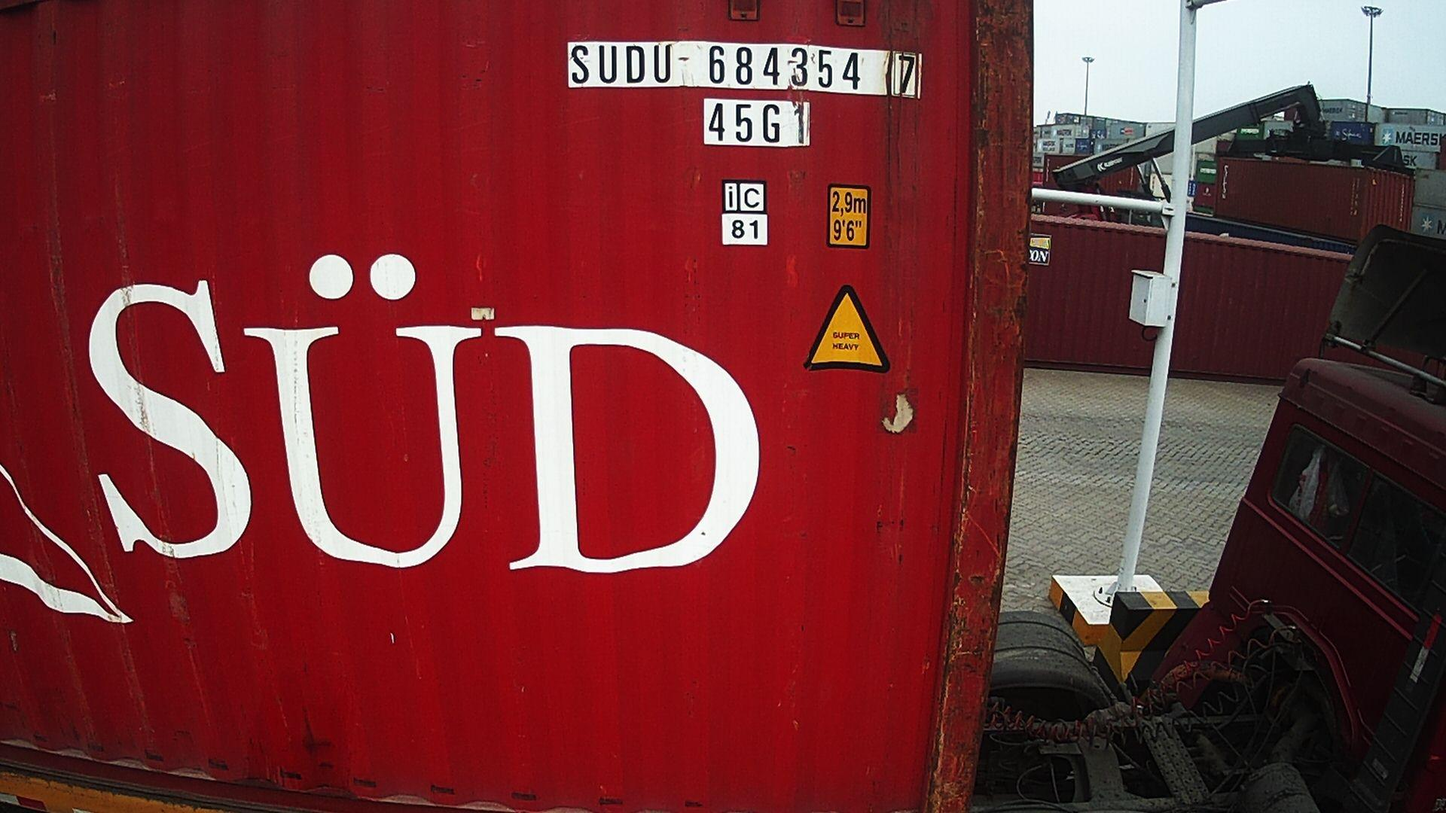container-numbers: (565, 41, 924, 99), (703, 101, 811, 151)
